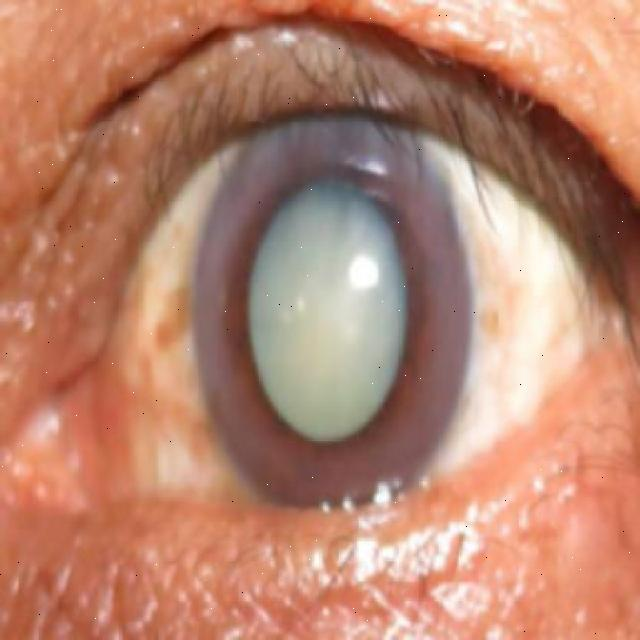Cataract: (189, 98, 476, 516)
